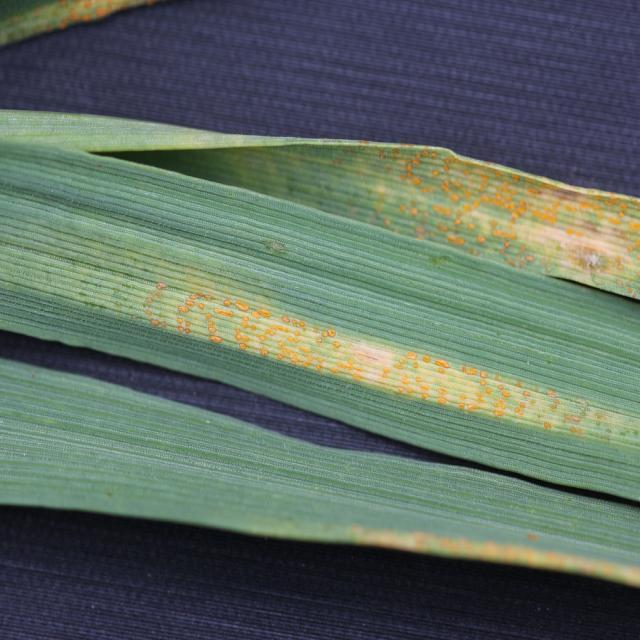Yellow_Rust: (0, 110, 639, 590)
